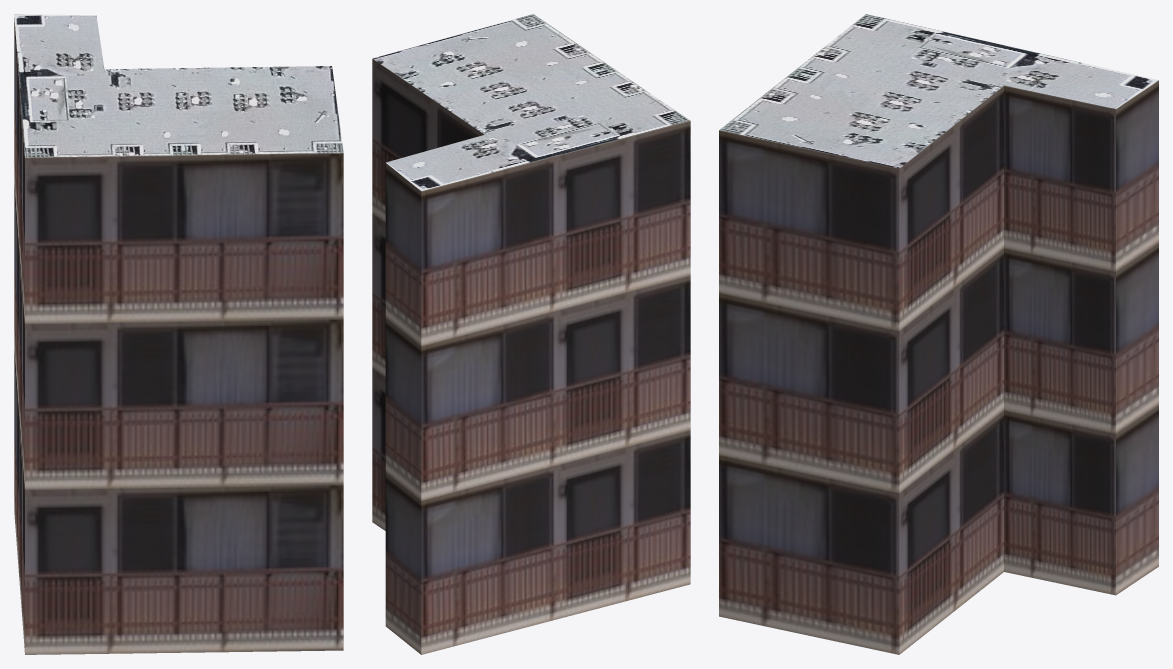
File: ResTex__3166.fbx
3 views of the same model, side by side, from view 1: azimuth 30°, elevation 25°; view 2: azimuth 150°, elevation 25°; view 3: azimuth 270°, elevation 25° (orthographic). The views are drawn at different scales.
Parts seen in each view (by area): view 1: CityEngineMaterial_6_m, CityEngineMaterial_4_m; view 2: CityEngineMaterial_6_m, CityEngineMaterial_4_m; view 3: CityEngineMaterial_6_m, CityEngineMaterial_4_m.
Part boxes in pixels (x1,y1,x2,y2): CityEngineMaterial_6_m: (14,18,343,654); CityEngineMaterial_4_m: (14,14,343,157); CityEngineMaterial_6_m: (372,59,690,654); CityEngineMaterial_4_m: (373,14,689,190); CityEngineMaterial_6_m: (719,80,1158,654); CityEngineMaterial_4_m: (719,14,1158,168).
Size of the model in its own units: 6.14 by 9 by 7.38.
2 materials, 2 textured.
